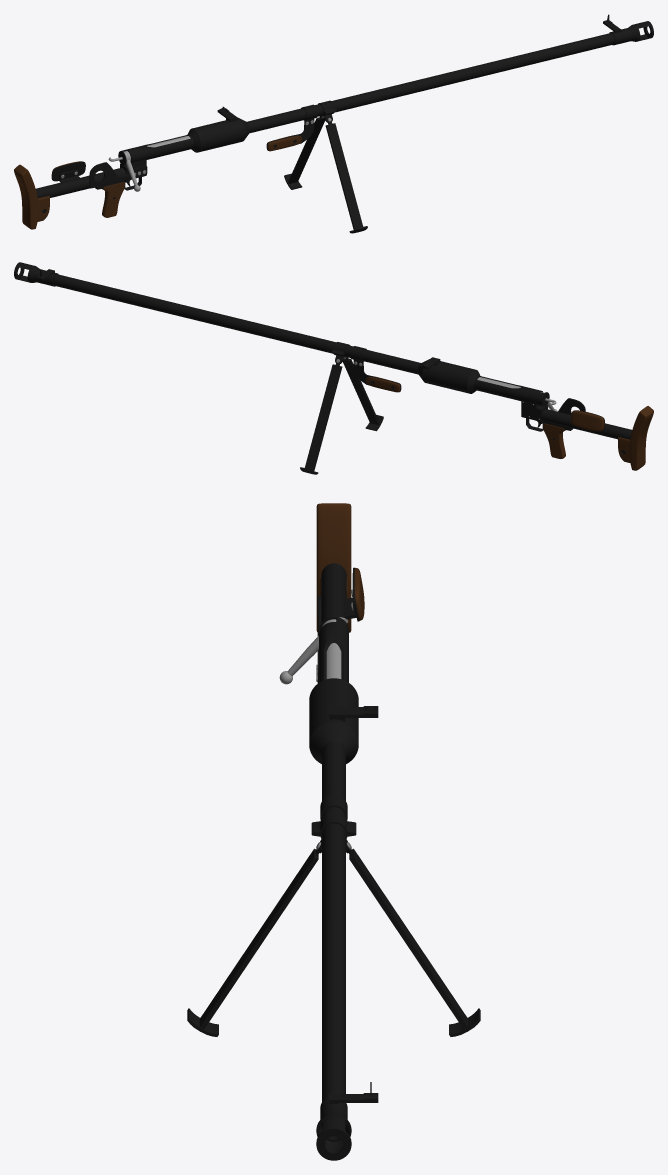
File: ptrd_anti-_tank_rifle.glb
3 renders of one model, top to bottom at view 1: azimuth 30°, elevation 25°; view 2: azimuth 150°, elevation 25°; view 3: azimuth 270°, elevation 25°, orthographic. The views are drawn at different scales.
Parts seen in each view (by area): view 1: Cube_1, Cylinder.016_2; view 2: Cube_1, Cylinder.016_2; view 3: Cube_1, Cylinder.016_2.
Boxes of the visible parts, <box> form: Cube_1: <box>14,14,653,233</box>; Cylinder.016_2: <box>108,136,190,191</box>; Cube_1: <box>14,262,653,474</box>; Cylinder.016_2: <box>477,377,557,411</box>; Cube_1: <box>187,503,480,1160</box>; Cylinder.016_2: <box>279,616,348,684</box>.
Bounding box in the file's own units: 13.63 × 2.43 × 2.74.
